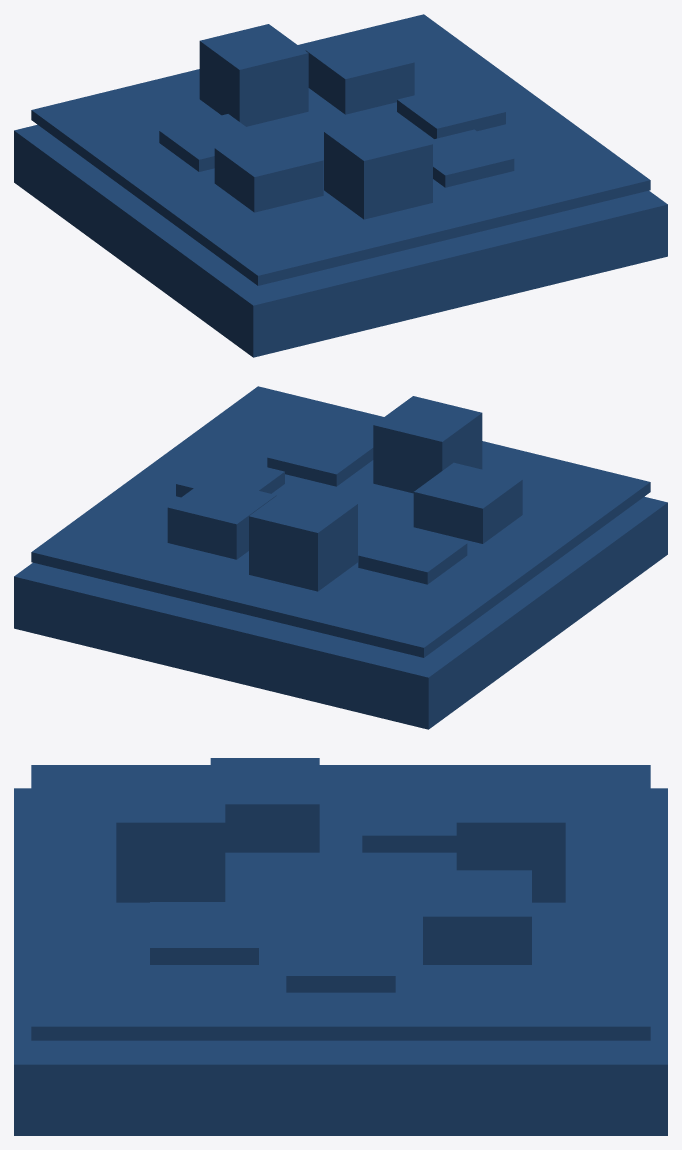
File: deep_ocean.glb
3 views of the same model, one above another, from view 1: azimuth 30°, elevation 25°; view 2: azimuth 150°, elevation 25°; view 3: azimuth 270°, elevation 25° (orthographic). The views are drawn at different scales.
Visible parts, largest first — view 1: deep_ocean water, deep_ocean base, deep_ocean relief.005, deep_ocean relief.002, deep_ocean relief.004, deep_ocean relief.001, deep_ocean relief, deep_ocean relief.006, deep_ocean relief.003; view 2: deep_ocean water, deep_ocean base, deep_ocean relief.002, deep_ocean relief.005, deep_ocean relief.004, deep_ocean relief.001, deep_ocean relief.003, deep_ocean relief.006, deep_ocean relief; view 3: deep_ocean water, deep_ocean base, deep_ocean relief.005, deep_ocean relief.002, deep_ocean relief.001, deep_ocean relief.004, deep_ocean relief, deep_ocean relief.006, deep_ocean relief.003.
Part boxes in pixels (box(x1,y1,x2,y2)): deep_ocean water: box(31, 14, 650, 285); deep_ocean base: box(14, 124, 667, 357); deep_ocean relief.005: box(324, 115, 432, 219); deep_ocean relief.002: box(199, 24, 308, 126); deep_ocean relief.004: box(214, 131, 323, 212); deep_ocean relief.001: box(305, 33, 414, 114); deep_ocean relief: box(397, 83, 505, 138); deep_ocean relief.006: box(428, 129, 514, 187); deep_ocean relief.003: box(159, 114, 259, 171); deep_ocean water: box(31, 386, 650, 657); deep_ocean base: box(14, 496, 667, 729); deep_ocean relief.002: box(249, 487, 357, 591); deep_ocean relief.005: box(373, 396, 482, 493); deep_ocean relief.004: box(413, 462, 522, 543); deep_ocean relief.001: box(167, 478, 276, 559); deep_ocean relief.003: box(358, 526, 467, 584); deep_ocean relief.006: box(267, 428, 373, 486); deep_ocean relief: box(176, 455, 284, 497); deep_ocean water: box(31, 765, 650, 1040); deep_ocean base: box(14, 788, 667, 1135); deep_ocean relief.005: box(116, 776, 225, 902); deep_ocean relief.002: box(456, 776, 565, 902); deep_ocean relief.001: box(423, 870, 531, 964); deep_ocean relief.004: box(210, 758, 319, 852); deep_ocean relief: box(286, 929, 395, 992); deep_ocean relief.006: box(150, 902, 258, 964); deep_ocean relief.003: box(362, 789, 456, 852).
Size of the model in its own units: 3 by 0.92 by 3.
